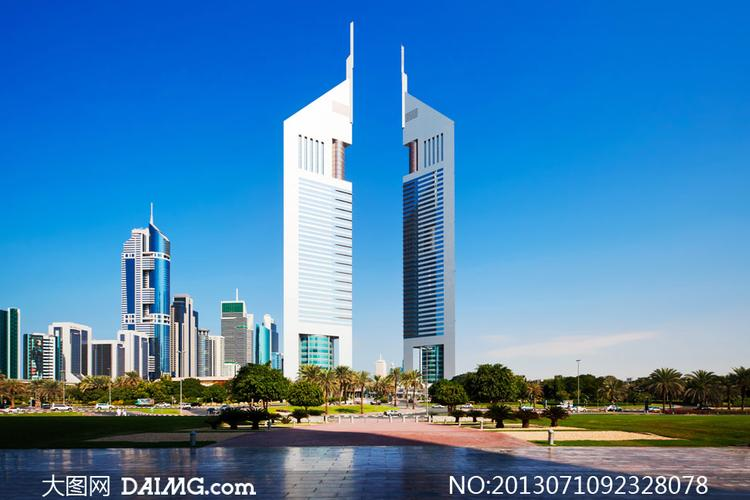buildings: (268, 84, 374, 398), (396, 76, 487, 402), (105, 210, 195, 401)
